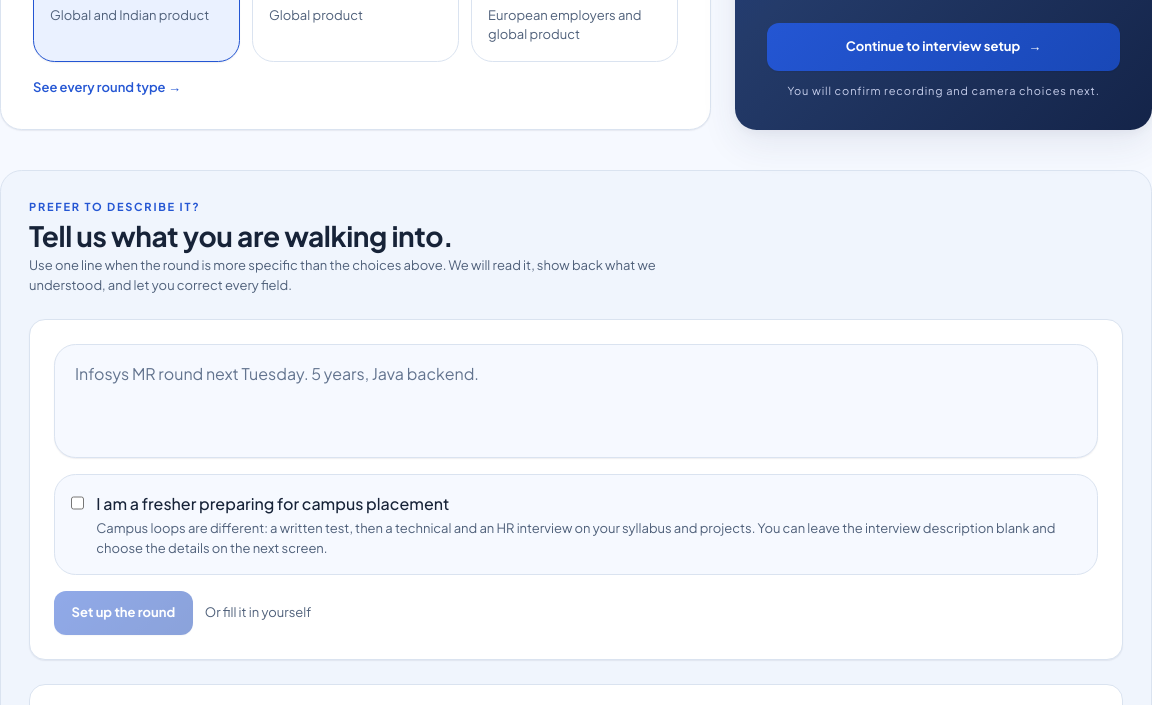
Test: NewInterviewForm › still starts a round when the composer cannot read the sentence
This screenshot has width=1152, height=705.
(page scrolled)
Type "something unparseable" into the text box named "describe the interview" at (576, 401), box [54,344,1098,458]
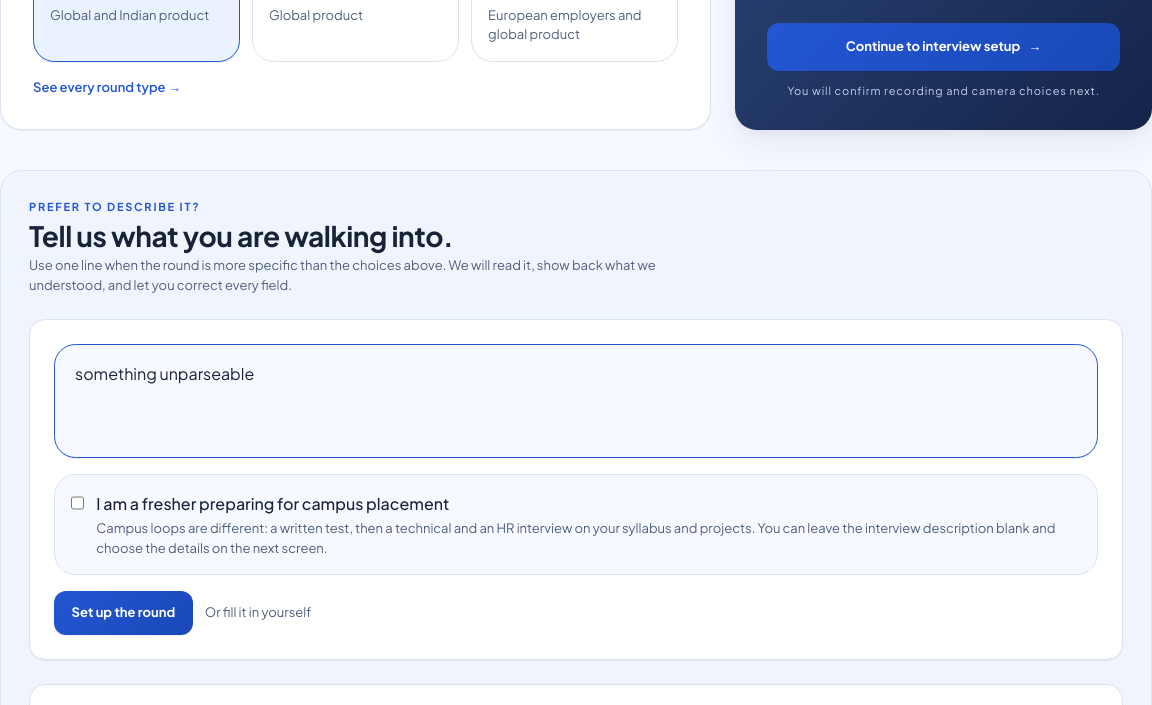
Click the button "Set up the round" at (123, 613), box [54,591,193,635]
(page scrolled)
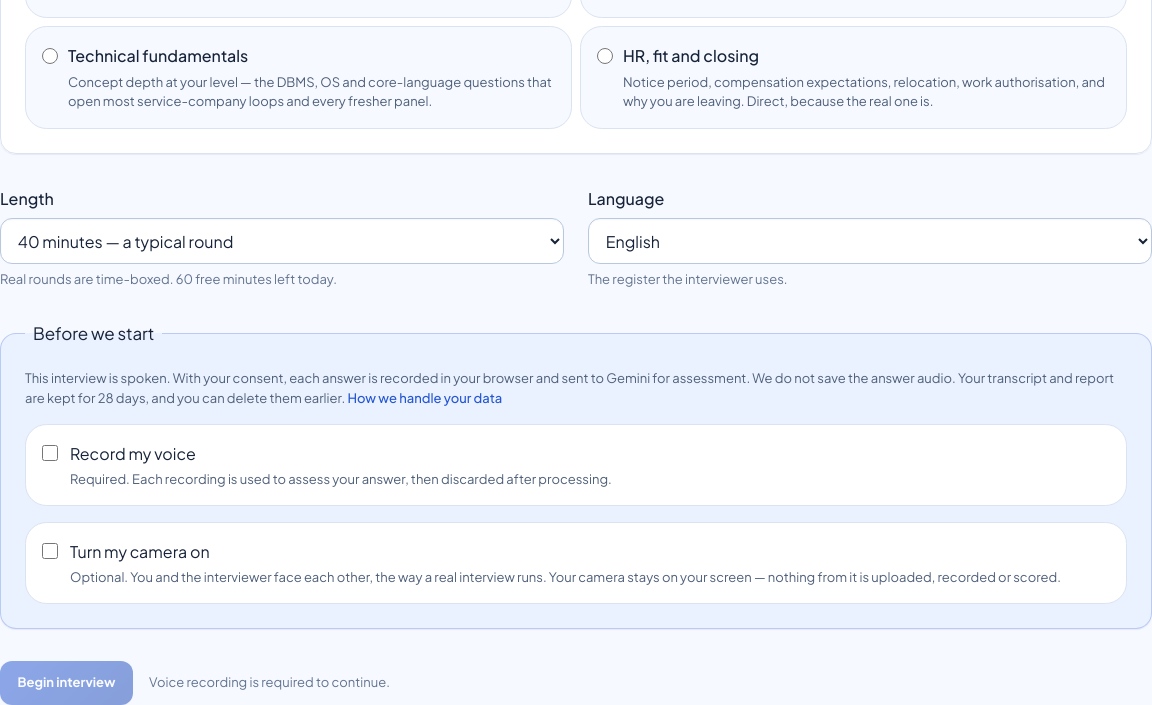
Expected: the button "Begin interview" is shown, [0,661,133,704]
